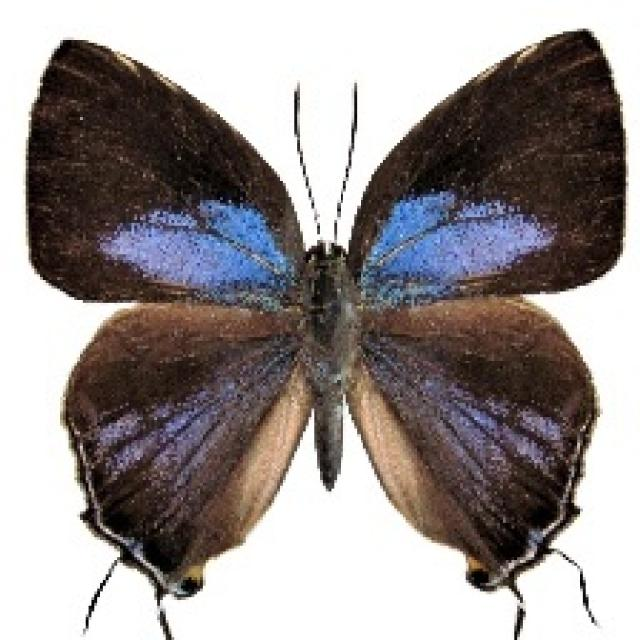butterfly: (23, 26, 626, 637)
